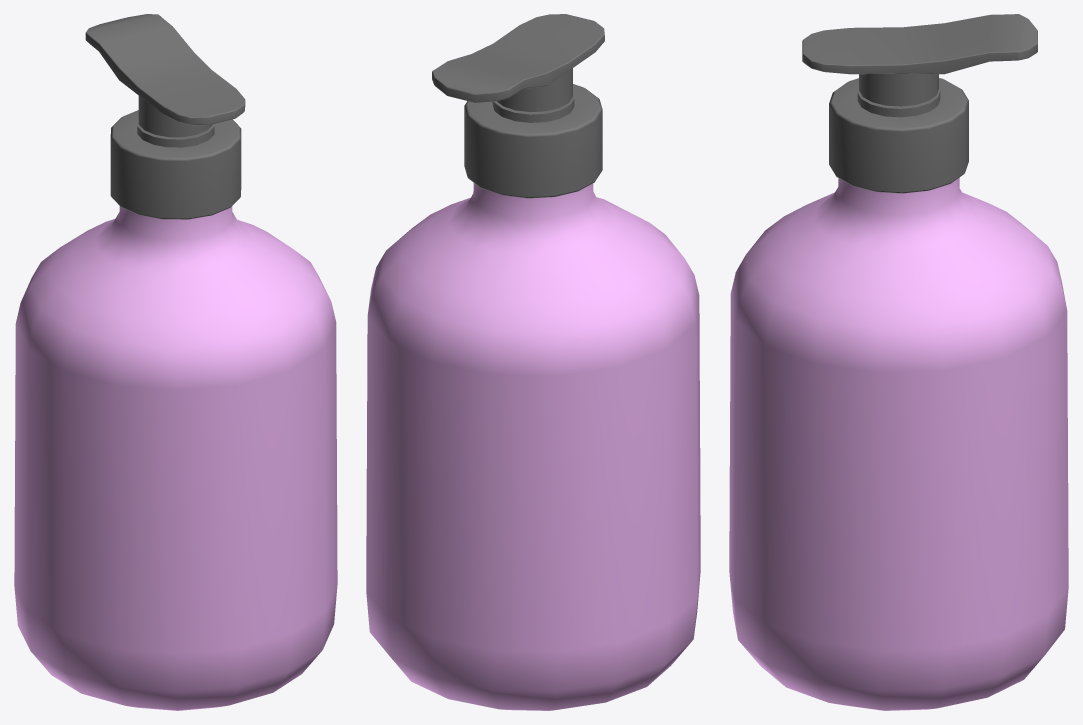
Rendered from HandSoap.fbx.
3 views of the same model, side by side, from view 1: azimuth 30°, elevation 25°; view 2: azimuth 150°, elevation 25°; view 3: azimuth 270°, elevation 25° (orthographic). The views are drawn at different scales.
Parts seen in each view (by area): view 1: Garrafa_Liquido_Maos.001, Garrafa_Liquido_Maos; view 2: Garrafa_Liquido_Maos.001, Garrafa_Liquido_Maos; view 3: Garrafa_Liquido_Maos.001, Garrafa_Liquido_Maos.
Part boxes in pixels (x1,y1,x2,y2): Garrafa_Liquido_Maos.001: (14,206,337,710); Garrafa_Liquido_Maos: (85,14,245,219); Garrafa_Liquido_Maos.001: (366,183,700,710); Garrafa_Liquido_Maos: (432,14,604,198); Garrafa_Liquido_Maos.001: (729,177,1068,710); Garrafa_Liquido_Maos: (802,14,1037,193).
Bounding box in the file's own units: 20.12 × 41.61 × 20.18.
